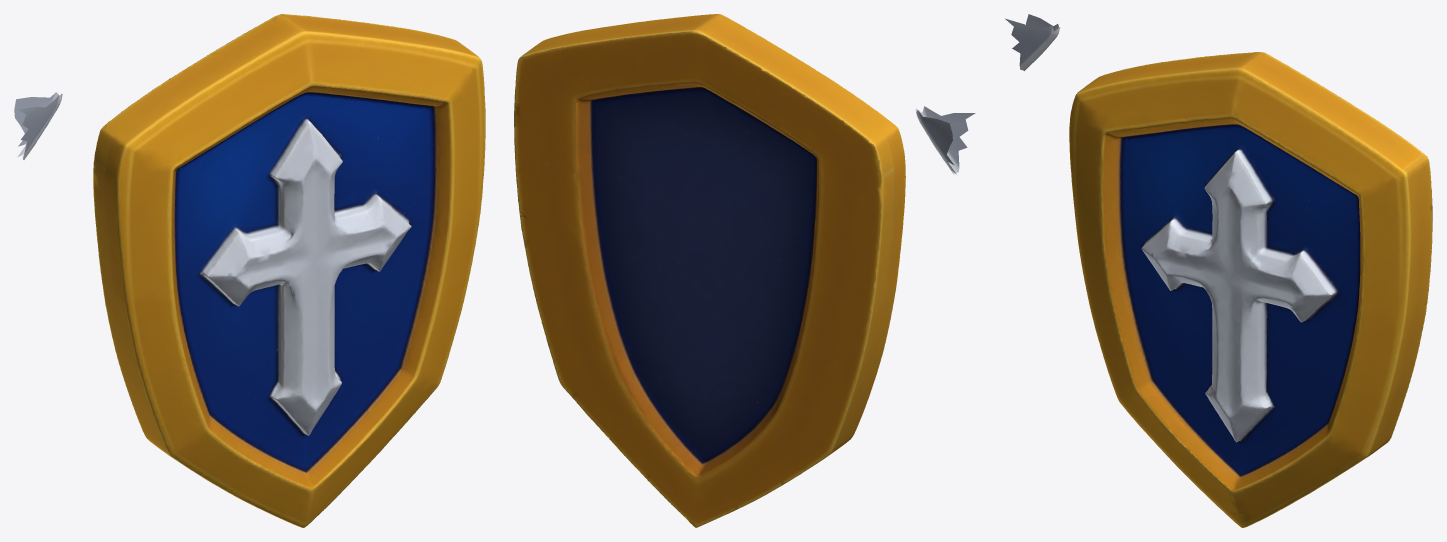
The model's file is shield.glb.
The picture shows the model from 3 angles, left to right: view 1: azimuth 30°, elevation 25°; view 2: azimuth 150°, elevation 25°; view 3: azimuth 330°, elevation 25°; orthographic projection. The views are drawn at different scales.
Parts seen in each view (by area): view 1: shield; view 2: shield; view 3: shield.
Part boxes in pixels (x1,y1,x2,y2): shield: (14, 14, 485, 527); shield: (514, 14, 975, 527); shield: (1005, 14, 1432, 527).
Size of the model in its own units: 1.04 by 1.09 by 0.1672.
1 material, 1 textured.
